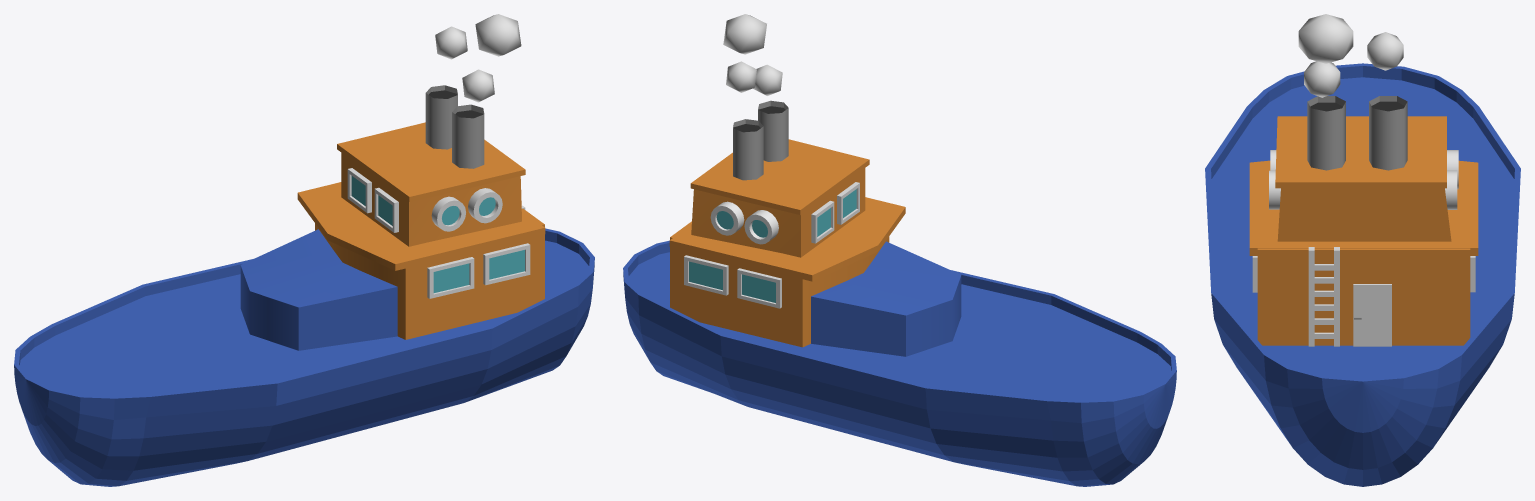
The picture shows the model from 3 angles, left to right: view 1: azimuth 30°, elevation 25°; view 2: azimuth 150°, elevation 25°; view 3: azimuth 270°, elevation 25°; orthographic projection. The views are drawn at different scales.
Parts seen in each view (by area): view 1: GeoSphere002; view 2: GeoSphere002; view 3: GeoSphere002.
Part boxes in pixels (x1=…): GeoSphere002: x1=14, y1=14, x2=594, y2=486; GeoSphere002: x1=623, y1=14, x2=1176, y2=486; GeoSphere002: x1=1205, y1=14, x2=1520, y2=486.
Size of the model in its own units: 133 by 88.02 by 55.64.
